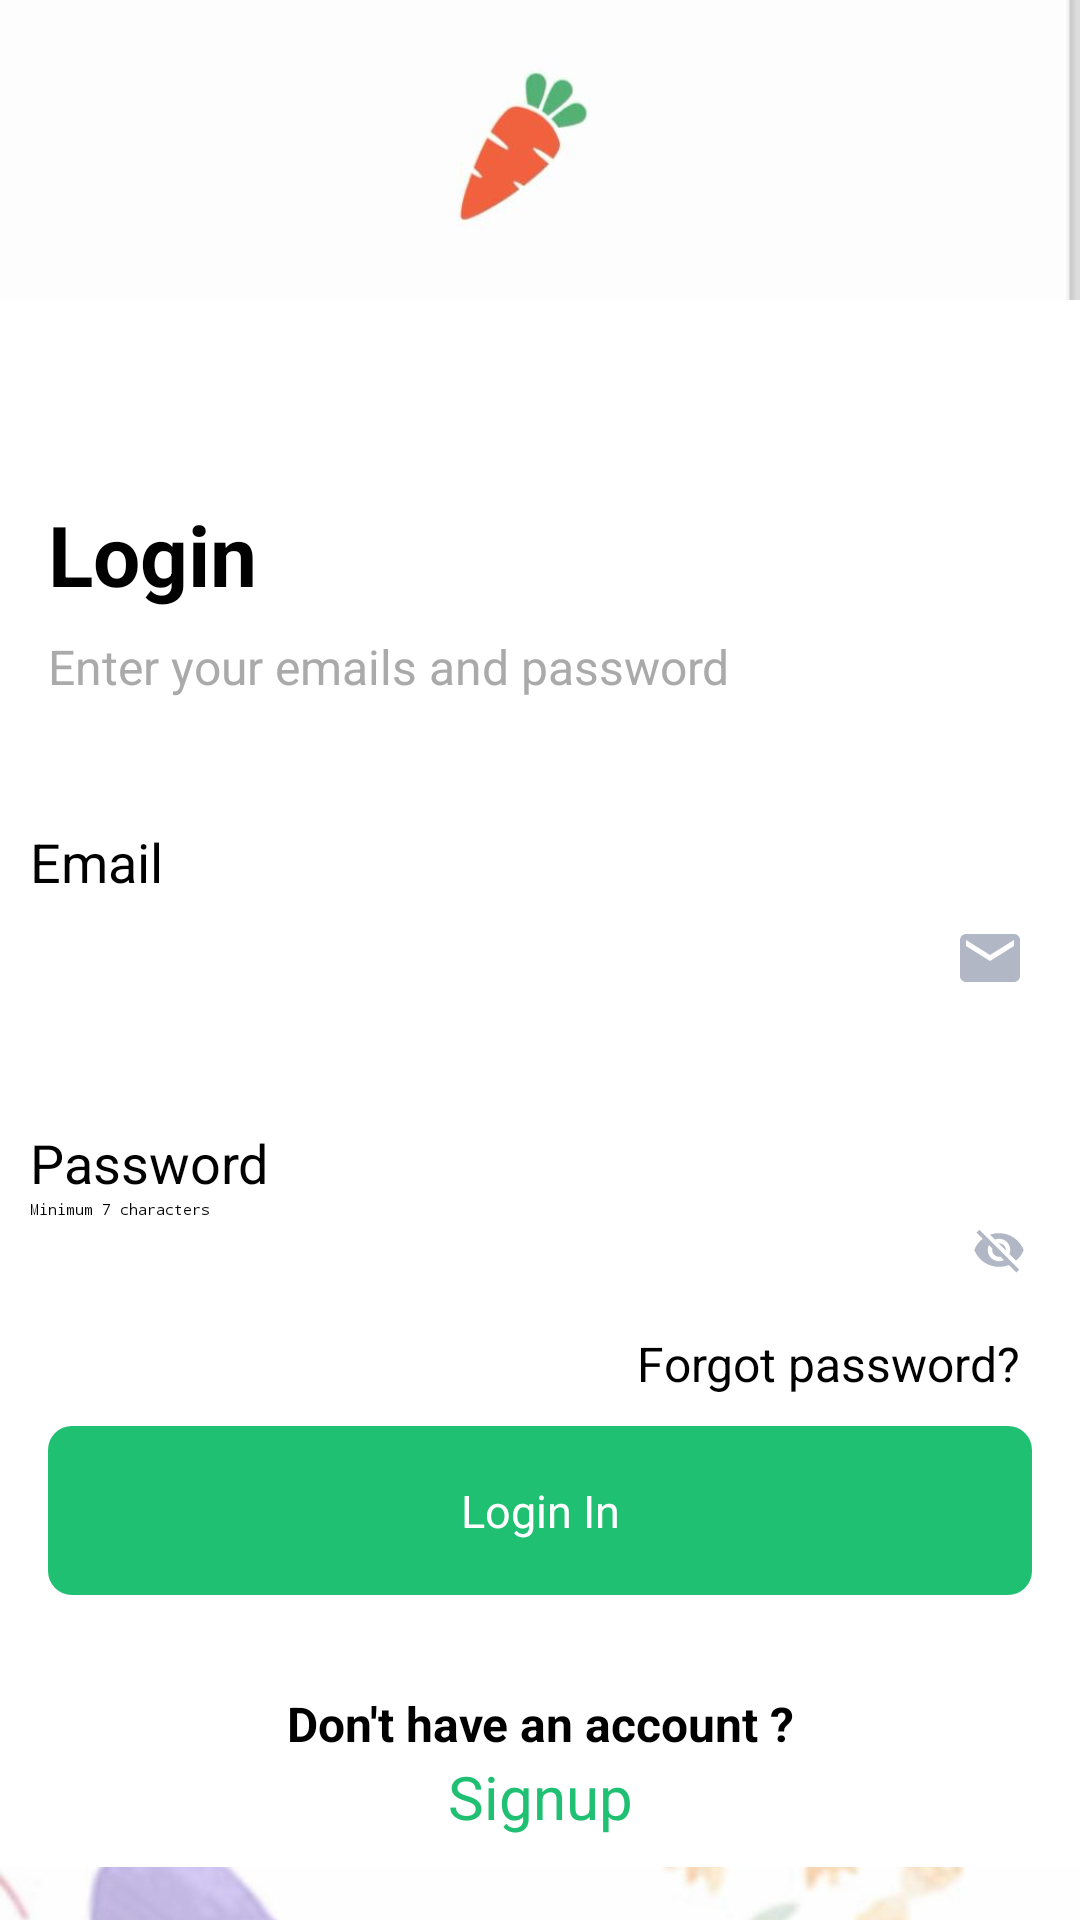

Where to tap for icons on this 1080w x 1920h app screen, as (x,y):
visibility off: (999,1251)
